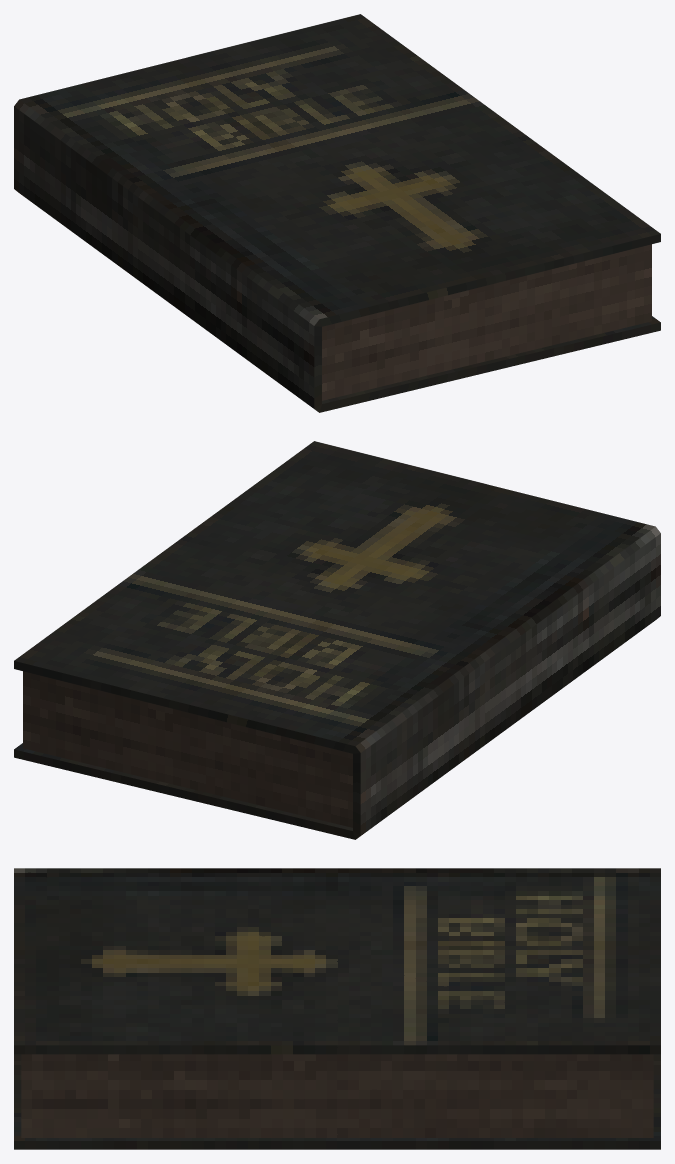
File: book_mp_8.glb
3 views of the same model, one above another, from view 1: azimuth 30°, elevation 25°; view 2: azimuth 150°, elevation 25°; view 3: azimuth 270°, elevation 25° (orthographic). The views are drawn at different scales.
Parts seen in each view (by area): view 1: book_mp_8; view 2: book_mp_8; view 3: book_mp_8.
Boxes of the visible parts, bbox=[...] form: book_mp_8: bbox=[14, 14, 660, 412]; book_mp_8: bbox=[14, 441, 660, 839]; book_mp_8: bbox=[14, 868, 660, 1149].
Bounding box in the file's own units: 0.18 × 0.048 × 0.27.
Materials: 1 (1 with a texture image).
